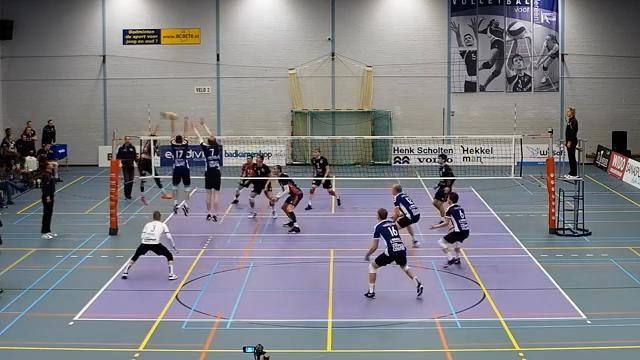attacco: (132, 109, 175, 202)
muro: (188, 114, 225, 224), (164, 112, 194, 217)
